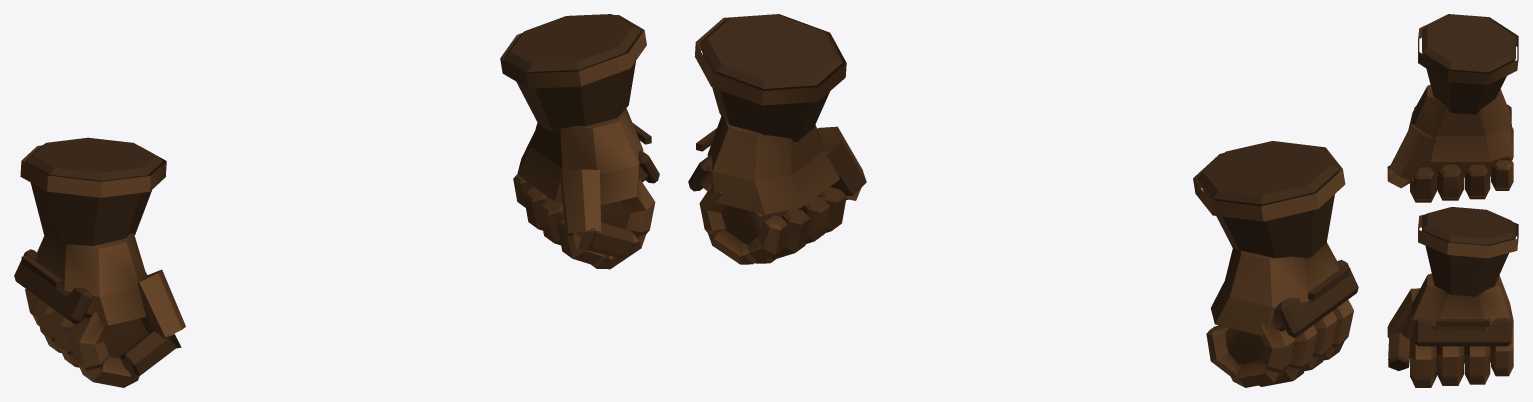
The model's file is g_gloves.glb.
The picture shows the model from 3 angles, left to right: view 1: azimuth 30°, elevation 25°; view 2: azimuth 150°, elevation 25°; view 3: azimuth 270°, elevation 25°; orthographic projection. The views are drawn at different scales.
Parts seen in each view (by area): view 1: ArmR_Hand, ArmL_Hand; view 2: ArmL_Hand, ArmR_Hand; view 3: ArmR_Hand, ArmL_Hand.
Part boxes in pixels (left/top/right/bottom): ArmR_Hand: left=14, top=137, right=185, bottom=387; ArmL_Hand: left=500, top=14, right=659, bottom=269; ArmL_Hand: left=688, top=14, right=866, bottom=264; ArmR_Hand: left=1193, top=141, right=1358, bottom=387; ArmR_Hand: left=1387, top=14, right=1518, bottom=202; ArmL_Hand: left=1387, top=207, right=1518, bottom=387.
Bounding box in the file's own units: 0.579 × 0.1974 × 0.1394.
